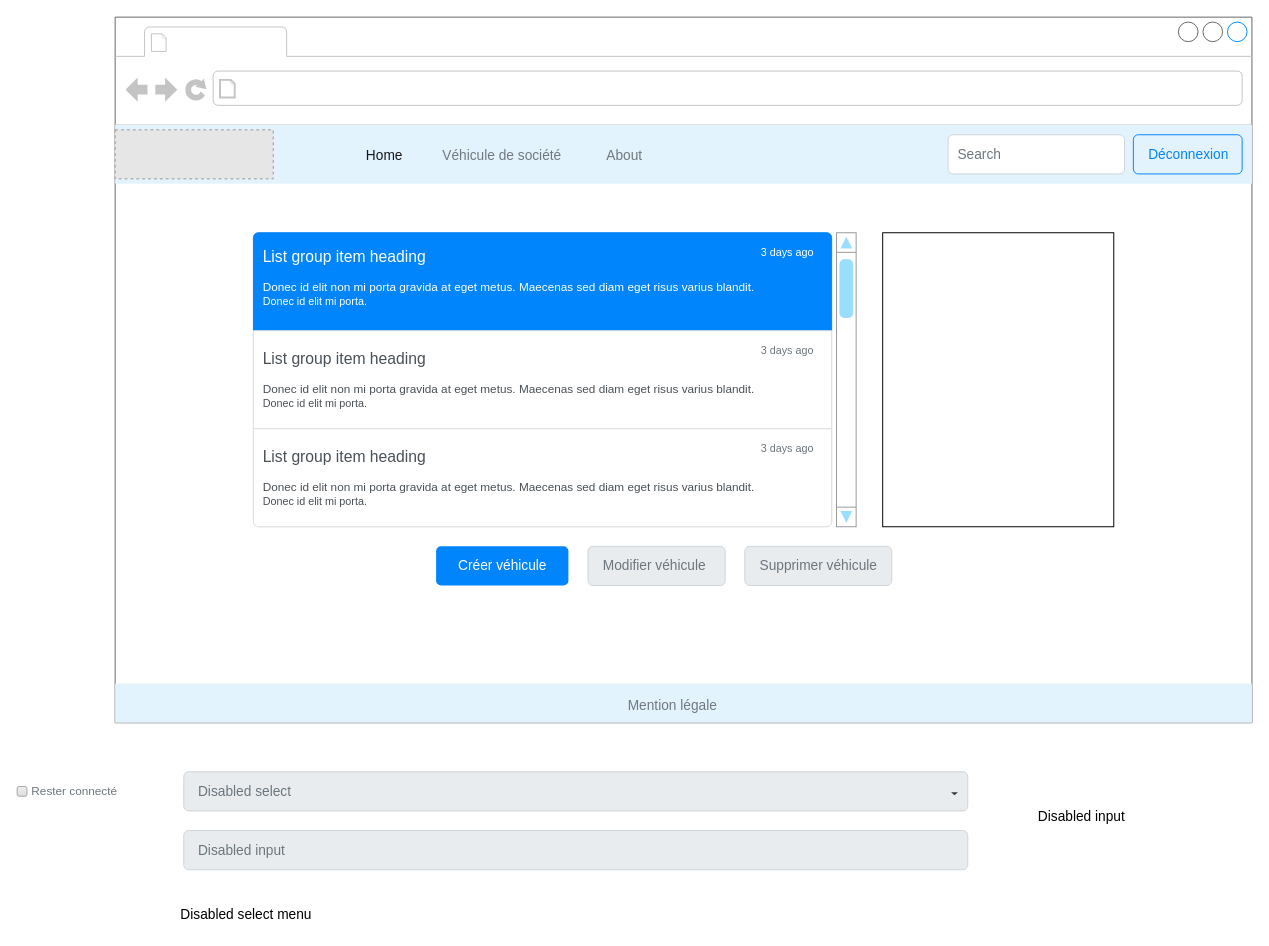
The diagram is 1269 pixels wide and 946 high, and some of its shapes have lost their labels. Grey dashed boxes stand in for pictures. Each missing label, with the centre of its shape:
https://www.draw.io: pixel 365 88
Page 1: pixel 227 41
Photo véhicule: pixel 998 379
